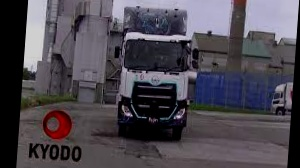truck: (115, 5, 195, 146), (266, 81, 293, 119)
